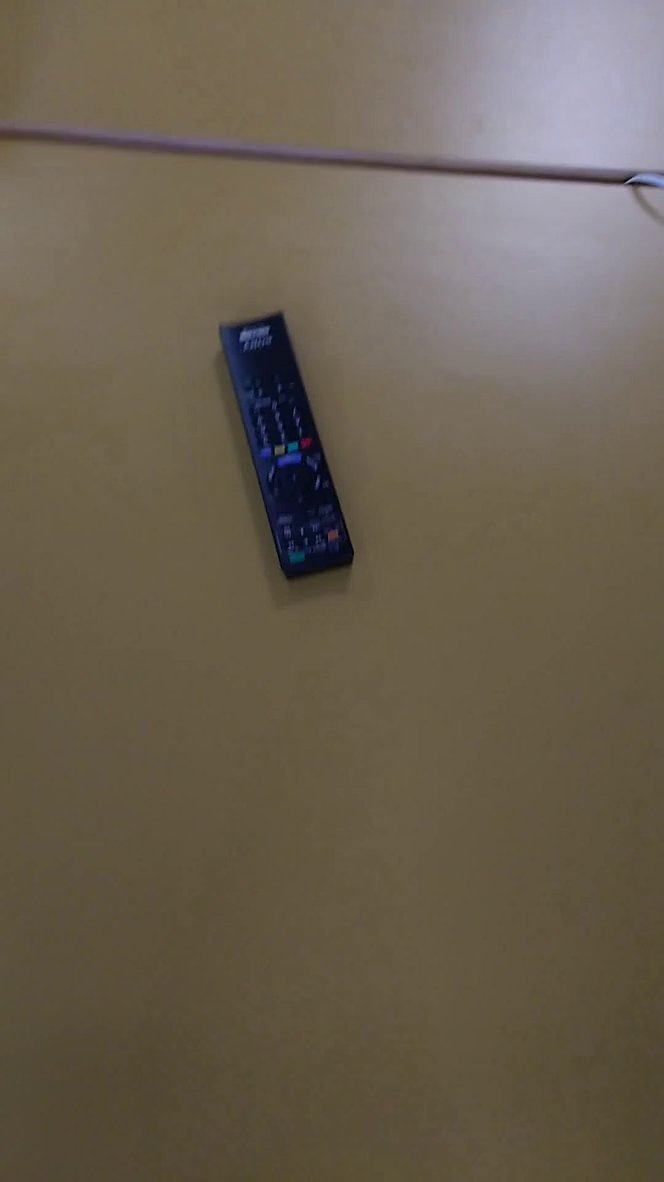remote: (205, 300, 373, 594)
